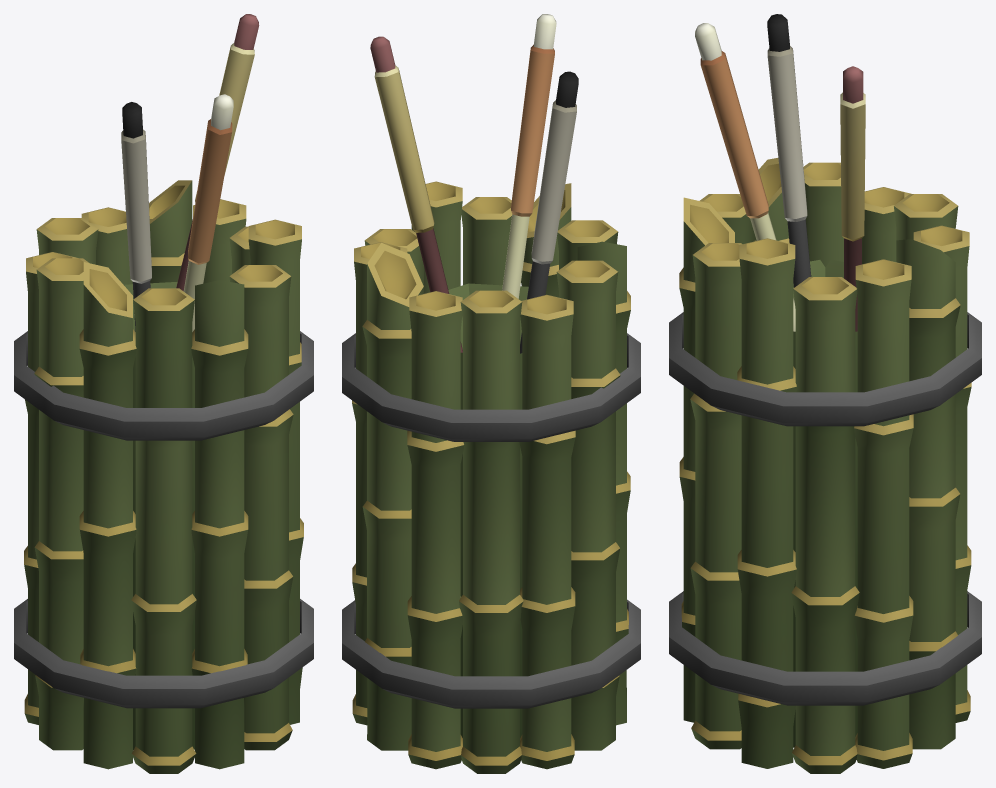
Rendered from SK_UmbrellaStand.FBX.
3 views of the same model, side by side, from view 1: azimuth 30°, elevation 25°; view 2: azimuth 150°, elevation 25°; view 3: azimuth 270°, elevation 25° (orthographic). The views are drawn at different scales.
Parts seen in each view (by area): view 1: Object005; view 2: Object005; view 3: Object005.
Part boxes in pixels (x1=…): Object005: x1=14, y1=14, x2=313, y2=773; Object005: x1=342, y1=14, x2=640, y2=773; Object005: x1=669, y1=14, x2=981, y2=773.
Size of the model in its own units: 34.81 by 85.5 by 34.81.
1 material, 1 textured.
